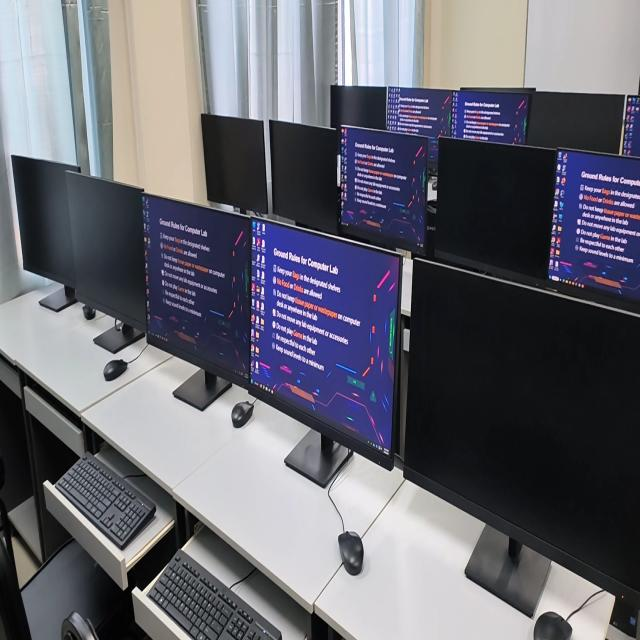Chair: (0, 539, 120, 639), (62, 612, 97, 639), (425, 201, 436, 257)
Cpu: (610, 600, 638, 637)
Keyboard: (147, 549, 282, 639), (56, 453, 155, 549)
Monitor: (404, 260, 640, 618), (248, 218, 401, 487), (142, 193, 251, 410), (434, 138, 555, 279), (548, 149, 640, 309), (66, 174, 146, 353), (339, 126, 428, 254), (12, 155, 79, 311), (269, 120, 339, 233), (386, 87, 453, 190), (201, 114, 267, 213), (526, 91, 625, 153), (453, 89, 531, 145), (330, 86, 386, 133), (621, 94, 640, 156)
Mouse: (338, 531, 364, 575), (533, 612, 572, 639), (231, 401, 254, 428), (104, 359, 128, 381), (82, 305, 96, 319)
